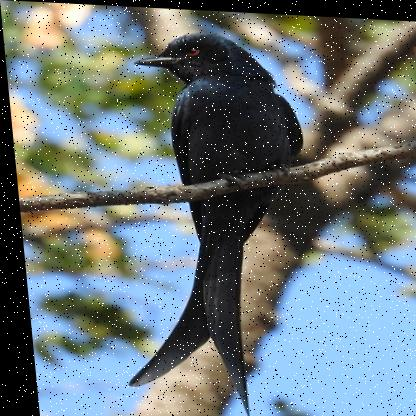Burung: (127, 26, 325, 415)
